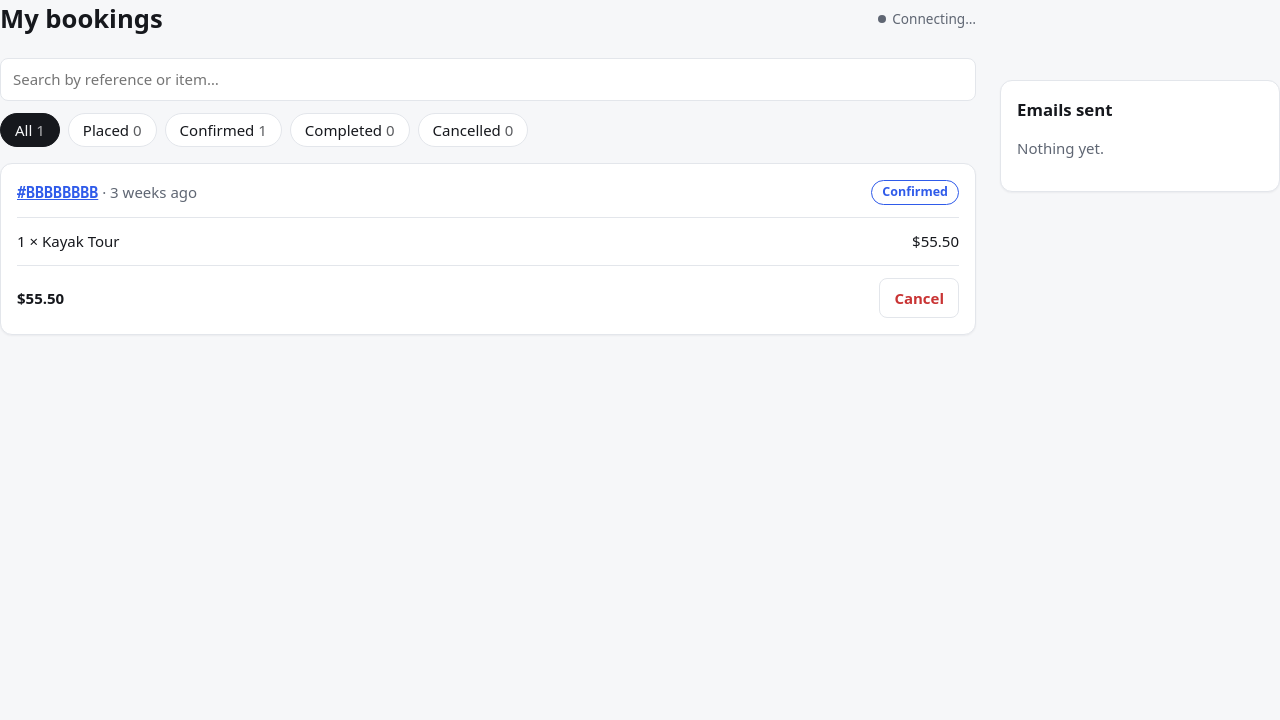
Test: Orders live updates › confirms a cancellation without a second toast from the live event
Expected: the text "Kayak Tour" is shown, [42, 231, 120, 251]
Click the button "Cancel" at (919, 298), box [879, 278, 959, 318]
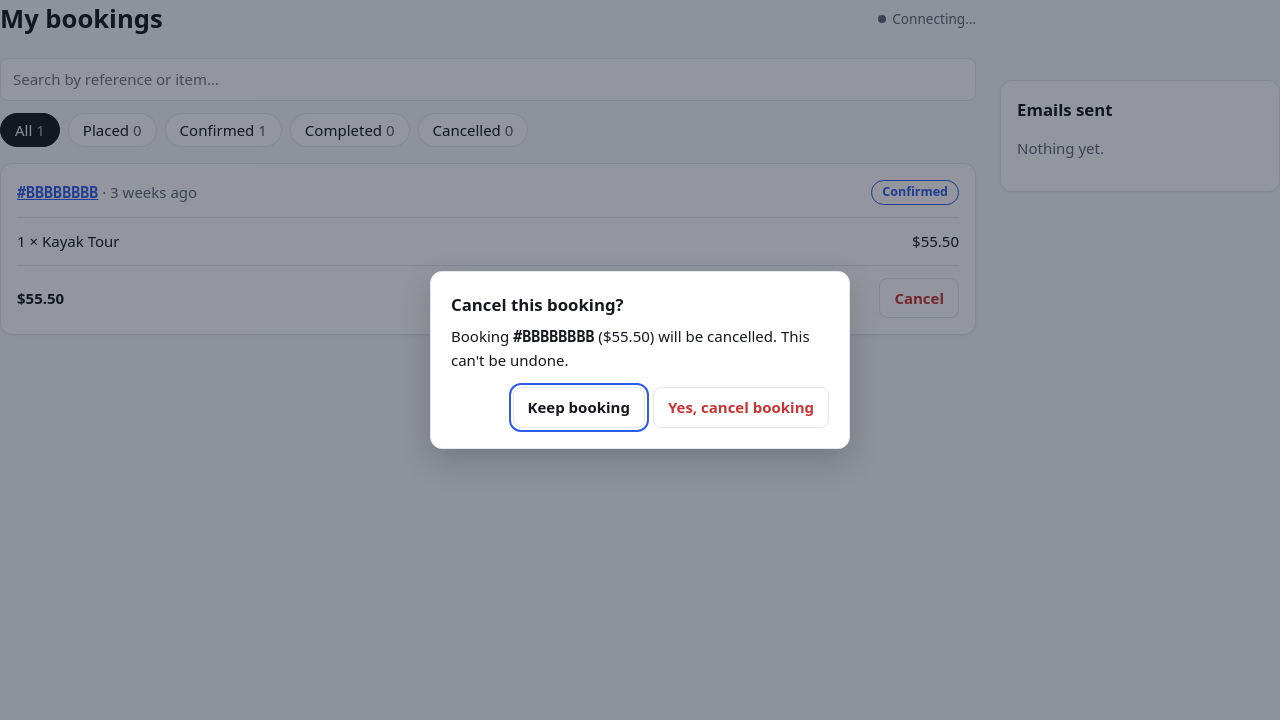
Click the button "Yes, cancel booking" at (741, 408), box [653, 387, 829, 428]
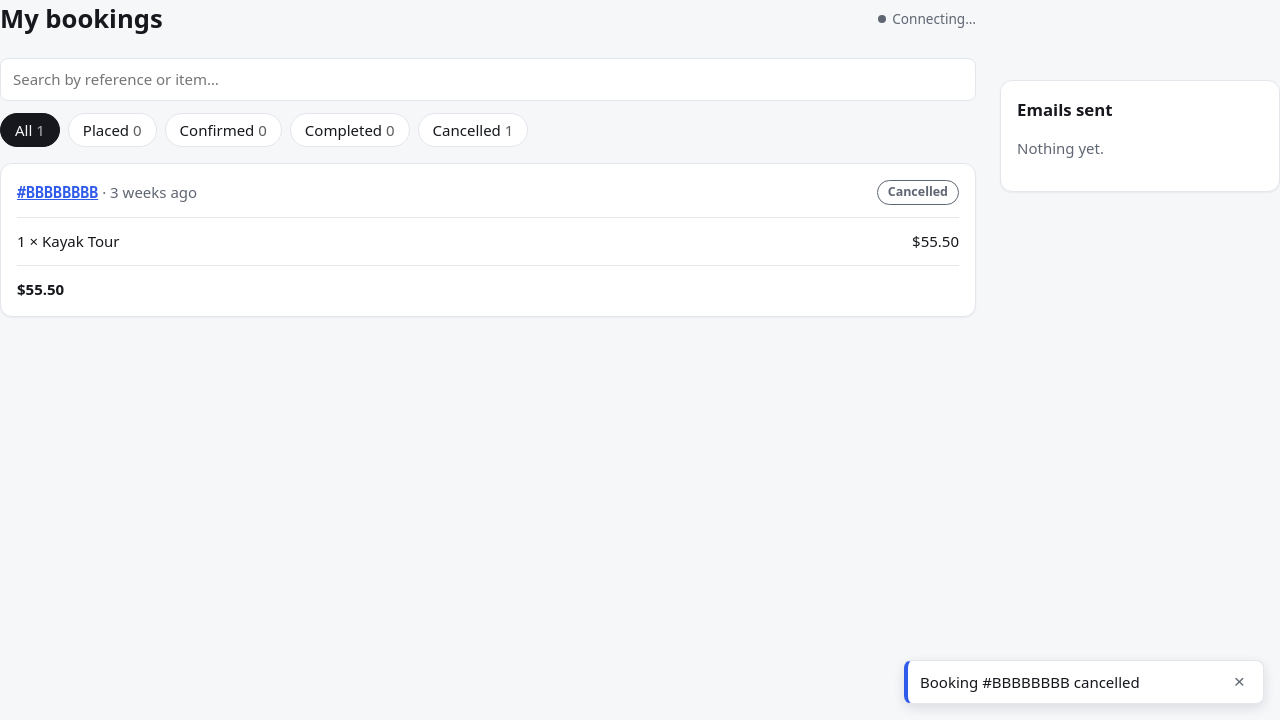
Now the text "Booking #BBBBBBBB cancelled" is shown, box [920, 670, 1140, 693]
